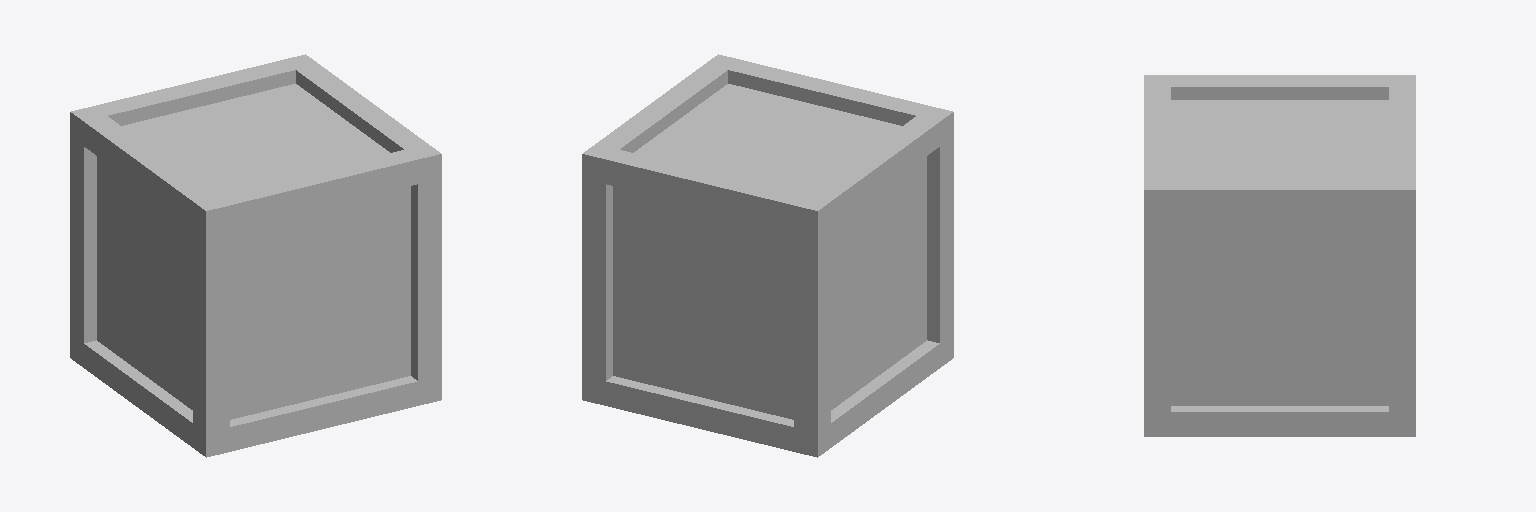
File: beveled box (UVd).obj
3 renders of one model, left to right at view 1: azimuth 30°, elevation 25°; view 2: azimuth 150°, elevation 25°; view 3: azimuth 270°, elevation 25°, orthographic.
Parts seen in each view (by area): view 1: Box; view 2: Box; view 3: Box.
Boxes of the visible parts, <box> form: Box: <box>70,54,441,457</box>; Box: <box>582,54,953,457</box>; Box: <box>1144,75,1415,436</box>.
Size of the model in its own units: 0.3008 by 0.3008 by 0.3008.